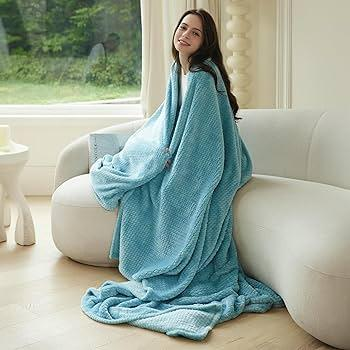blanket: (80, 55, 286, 344)
